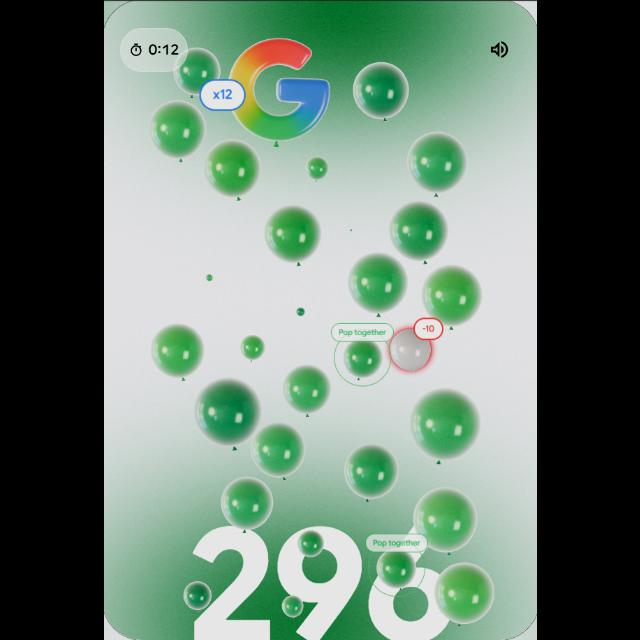hazard: (385, 319, 445, 376)
safe: (409, 386, 485, 466), (409, 489, 485, 557), (194, 376, 260, 449), (430, 562, 500, 630), (385, 200, 451, 264), (408, 130, 468, 198), (422, 262, 480, 332), (351, 60, 411, 126), (347, 256, 409, 318), (265, 202, 321, 266), (150, 101, 207, 162), (208, 138, 260, 204), (147, 325, 209, 379), (340, 447, 402, 501), (218, 480, 276, 534), (254, 421, 306, 481), (280, 367, 334, 418), (170, 46, 218, 98), (182, 578, 215, 618), (295, 530, 325, 562), (280, 591, 304, 621), (241, 334, 265, 361), (307, 154, 329, 178), (294, 306, 304, 320), (204, 272, 212, 286)
safe-pair: (362, 526, 428, 600), (331, 318, 393, 390)
super_g: (200, 35, 334, 149)
